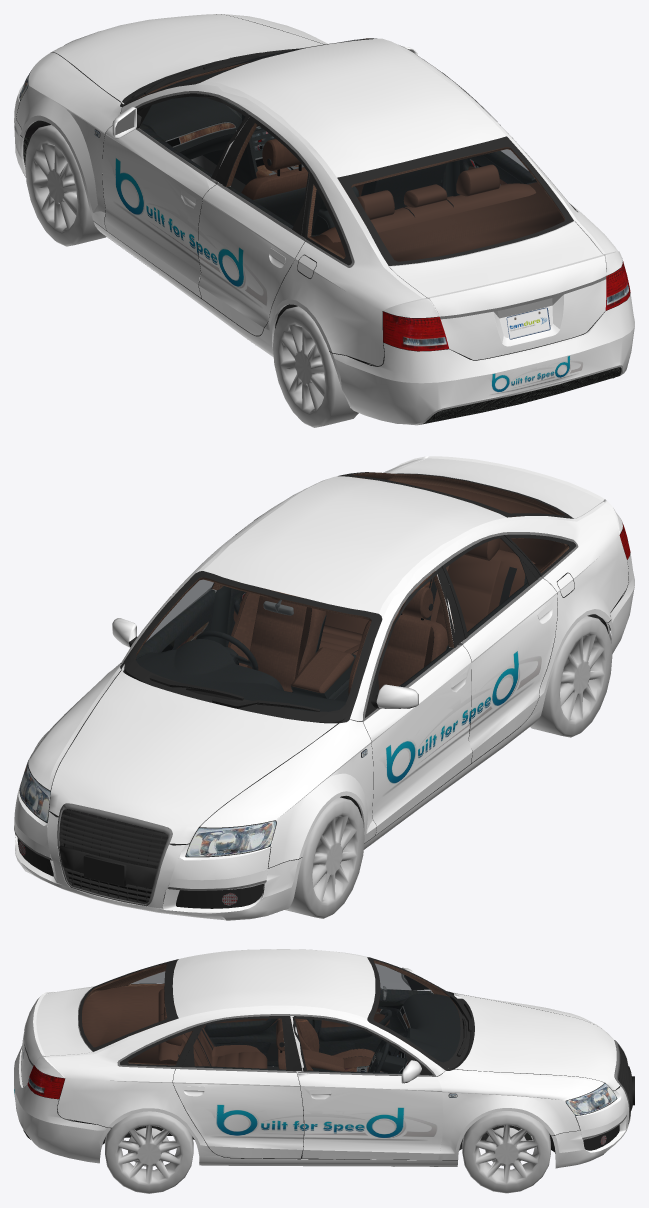
Rendered from Car_model.FBX.
3 views of the same model, one above another, from view 1: azimuth 30°, elevation 25°; view 2: azimuth 150°, elevation 25°; view 3: azimuth 270°, elevation 25° (orthographic). The views are drawn at different scales.
Parts seen in each view (by area): view 1: Body, TYre_LR, Tyre_BL; view 2: Body, Tyre_BL, TYre_LR, Steering; view 3: Body, TYre_BR, Tyre_FR, Steering.
Part boxes in pixels (x1,y1,x2,y2): Body: (14,14,634,425); TYre_LR: (273,306,358,427); Tyre_BL: (25,125,106,246); Body: (14,456,634,920); Tyre_BL: (284,797,364,918); TYre_LR: (530,616,612,737); Steering: (196,630,258,670); Body: (14,949,634,1168); TYre_BR: (462,1111,550,1193); Tyre_FR: (105,1111,193,1193); Steering: (368,1040,389,1072).
Size of the model in its own units: 9.85 by 7.35 by 24.23.
